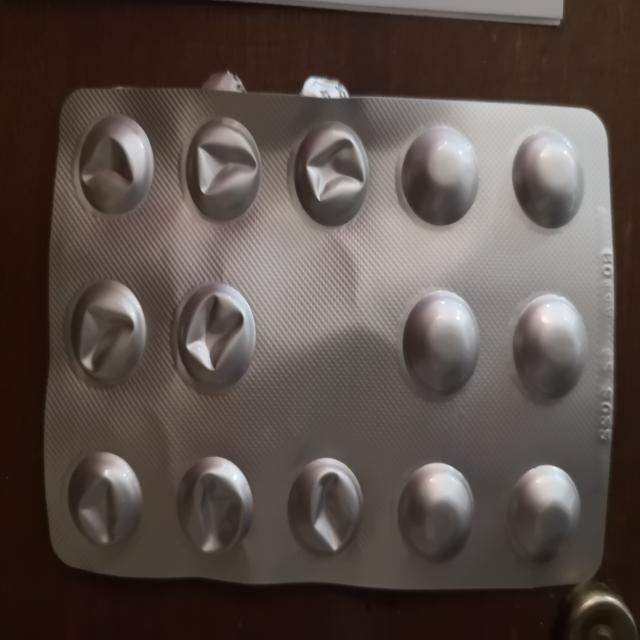Empty: (168, 282, 260, 396), (74, 105, 160, 223), (287, 115, 376, 228), (66, 277, 152, 393), (180, 111, 264, 228), (284, 454, 371, 564), (61, 442, 146, 554), (171, 453, 256, 562)
Pill: (393, 458, 480, 570), (398, 286, 483, 400), (397, 119, 484, 229), (512, 289, 591, 407), (504, 460, 583, 565), (507, 126, 587, 228)
